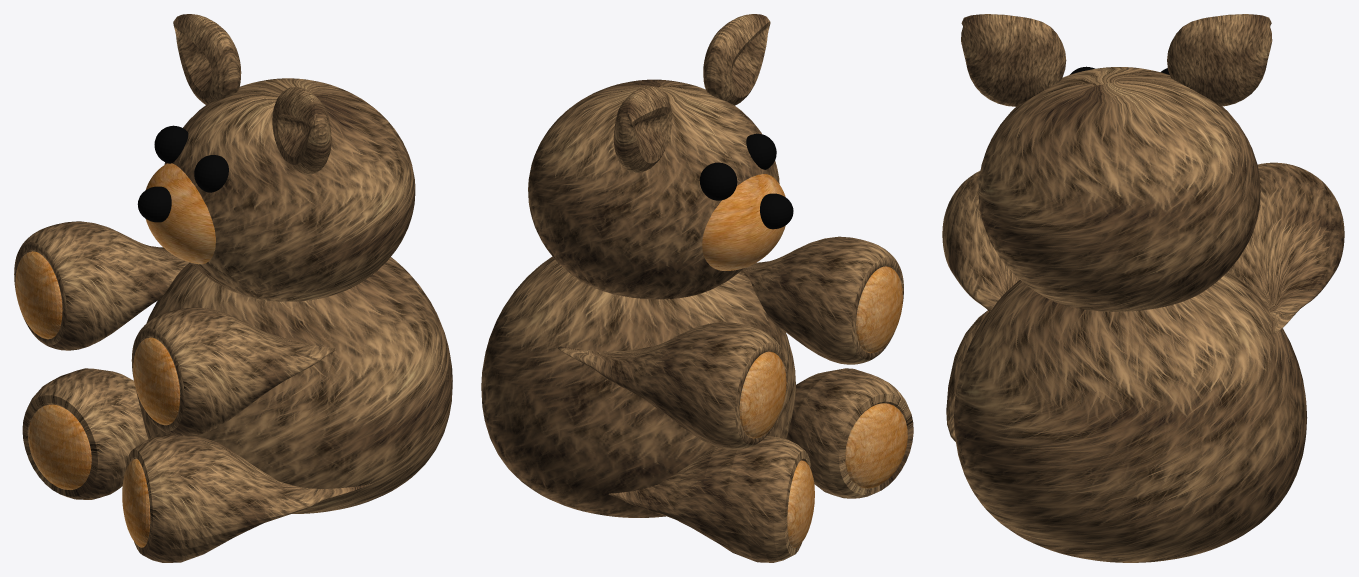
Rendered from TED.fbx.
3 renders of one model, left to right at view 1: azimuth 30°, elevation 25°; view 2: azimuth 150°, elevation 25°; view 3: azimuth 270°, elevation 25°, orthographic. The views are drawn at different scales.
Parts seen in each view (by area): view 1: Sphere.001, Sphere, Sphere.008, Sphere.007, Sphere.002, Sphere.005, Sphere.012, Sphere.010, Sphere.004, Sphere.013, Sphere.003, Sphere.006 (+4 smaller); view 2: Sphere.001, Sphere, Sphere.002, Sphere.005, Sphere.007, Sphere.008, Sphere.010, Sphere.013, Sphere.009, Sphere.012, Sphere.006, Sphere.003 (+4 smaller); view 3: Sphere.001, Sphere, Sphere.002, Sphere.013, Sphere.012, Sphere.007, Sphere.008.
Boxes of the visible parts, x1,y1,x2,y2 form: Sphere.001: (136,257,452,513); Sphere: (164,78,415,301); Sphere.008: (126,435,371,562); Sphere.007: (131,307,335,436); Sphere.002: (14,221,189,350); Sphere.005: (22,368,148,499); Sphere.012: (173,14,241,104); Sphere.010: (146,163,215,264); Sphere.004: (28,404,91,489); Sphere.013: (272,87,331,174); Sphere.003: (15,251,62,339); Sphere.006: (133,337,180,425); Sphere.001: (481,256,796,517); Sphere: (528,79,779,299); Sphere.002: (555,322,787,449); Sphere.005: (608,436,811,562); Sphere.007: (743,236,903,364); Sphere.008: (786,368,913,498); Sphere.010: (702,174,785,270); Sphere.013: (703,14,770,105); Sphere.009: (845,403,907,488); Sphere.012: (613,86,672,172); Sphere.006: (856,266,902,353); Sphere.003: (739,351,786,438); Sphere.001: (954,271,1307,562); Sphere: (978,67,1260,311); Sphere.002: (1229,162,1344,334); Sphere.013: (961,14,1066,106); Sphere.012: (1167,14,1272,106); Sphere.007: (942,170,1019,311); Sphere.008: (946,310,988,441).
Size of the model in its own units: 124 by 150 by 111.
Materials: 3 (2 with a texture image).
